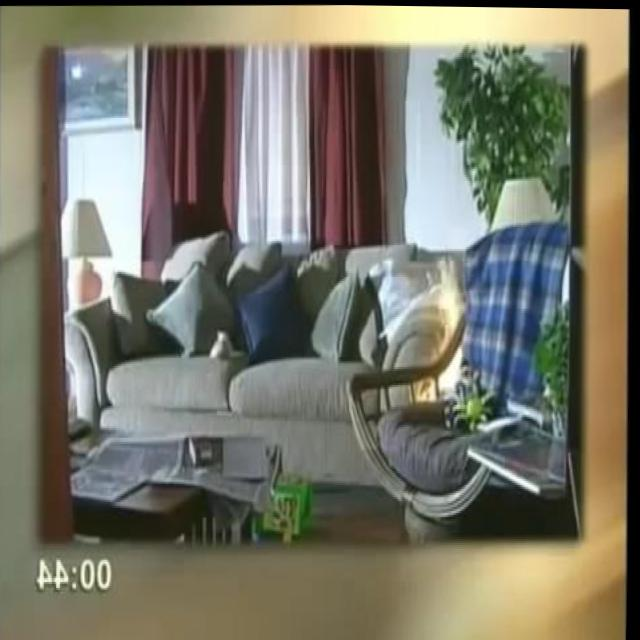fire: (411, 251, 470, 403)
